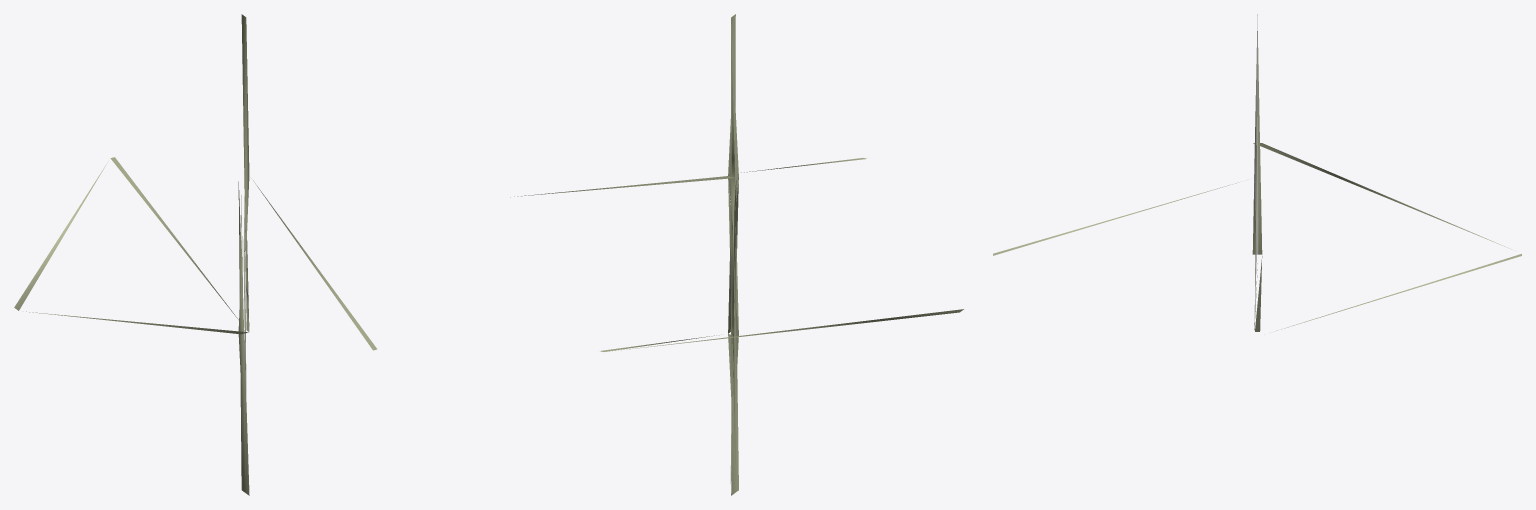
File: equip_weapon_willow_longbow.glb
3 views of the same model, side by side, from view 1: azimuth 30°, elevation 25°; view 2: azimuth 150°, elevation 25°; view 3: azimuth 270°, elevation 25° (orthographic).
Visible parts, largest first — view 1: equip_weapon_willow_longbow; view 2: equip_weapon_willow_longbow; view 3: equip_weapon_willow_longbow.
Boxes of the visible parts, left/top/right/bottom form: equip_weapon_willow_longbow: left=14, top=14, right=377, bottom=495; equip_weapon_willow_longbow: left=510, top=14, right=963, bottom=495; equip_weapon_willow_longbow: left=993, top=14, right=1521, bottom=331.
Size of the model in its own units: 2 by 2 by 2.
